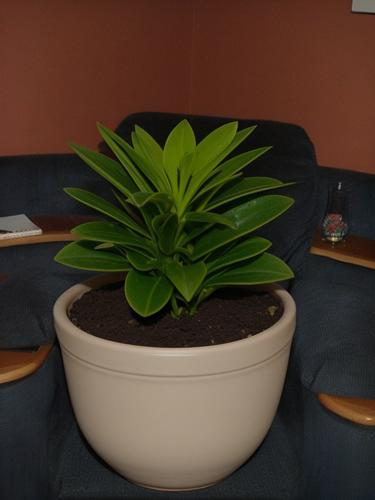chair: (1, 113, 375, 500)
person: (66, 226, 229, 472)
person/foot: (132, 420, 172, 464), (101, 432, 133, 470)
person/hand: (65, 377, 89, 406), (197, 379, 223, 404)
person/head: (111, 226, 177, 307)
pottedplant: (53, 120, 294, 500)
